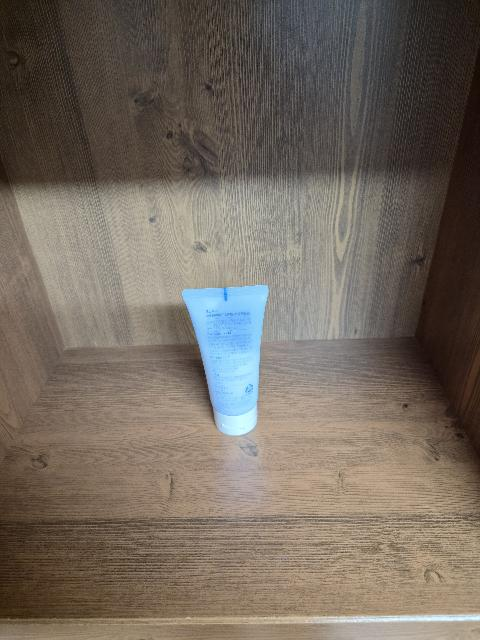handcream: (182, 285, 269, 436)
